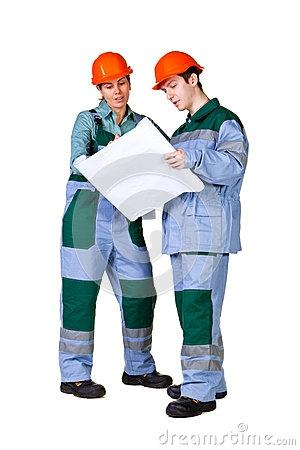helmet: (152, 48, 204, 88), (89, 49, 134, 84)
no_wear: (69, 111, 131, 163)
wear: (164, 114, 243, 253)
